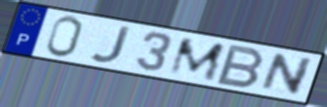0: (45, 15, 85, 59)
3: (134, 31, 175, 73)
B: (213, 43, 267, 90)
J: (88, 25, 134, 65)
M: (166, 36, 228, 83)
N: (258, 52, 316, 97)
